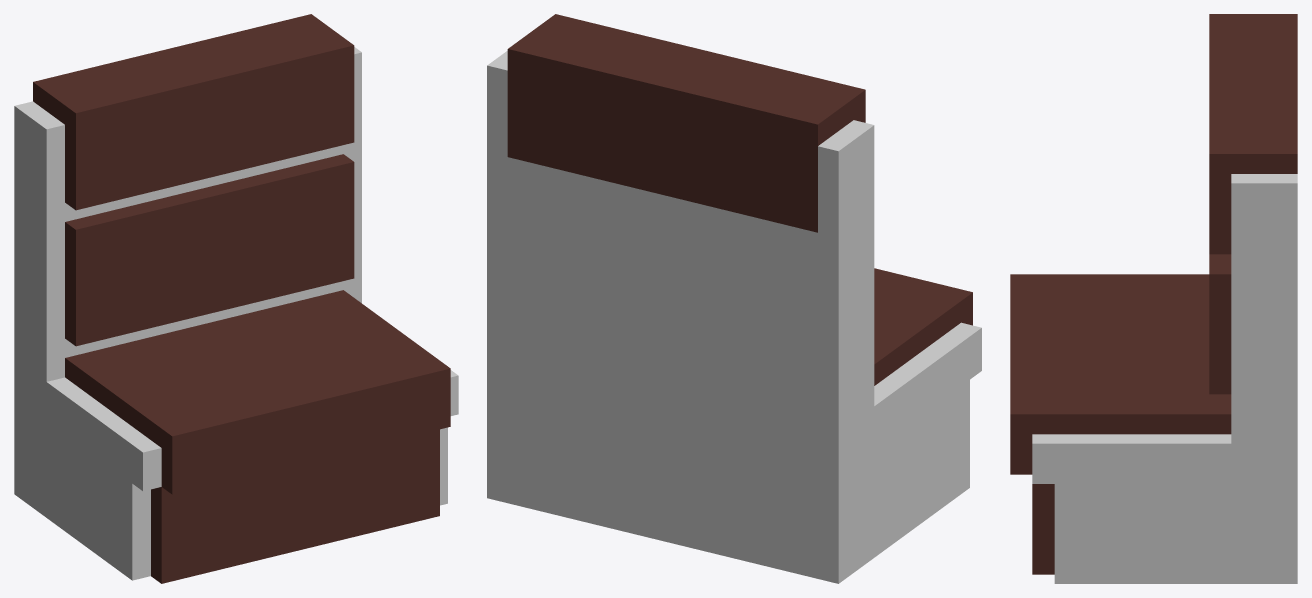
The model's file is premium_seat.gltf.
3 renders of one model, left to right at view 1: azimuth 30°, elevation 25°; view 2: azimuth 150°, elevation 25°; view 3: azimuth 270°, elevation 25°, orthographic. The views are drawn at different scales.
Visible parts, largest first — view 1: Layer.1; view 2: Layer.1; view 3: Layer.1.
Boxes of the visible parts, <box> form: Layer.1: <box>14,14,458,583</box>; Layer.1: <box>487,14,981,583</box>; Layer.1: <box>1010,14,1297,583</box>.
Bounding box in the file's own units: 17 × 21 × 13.
